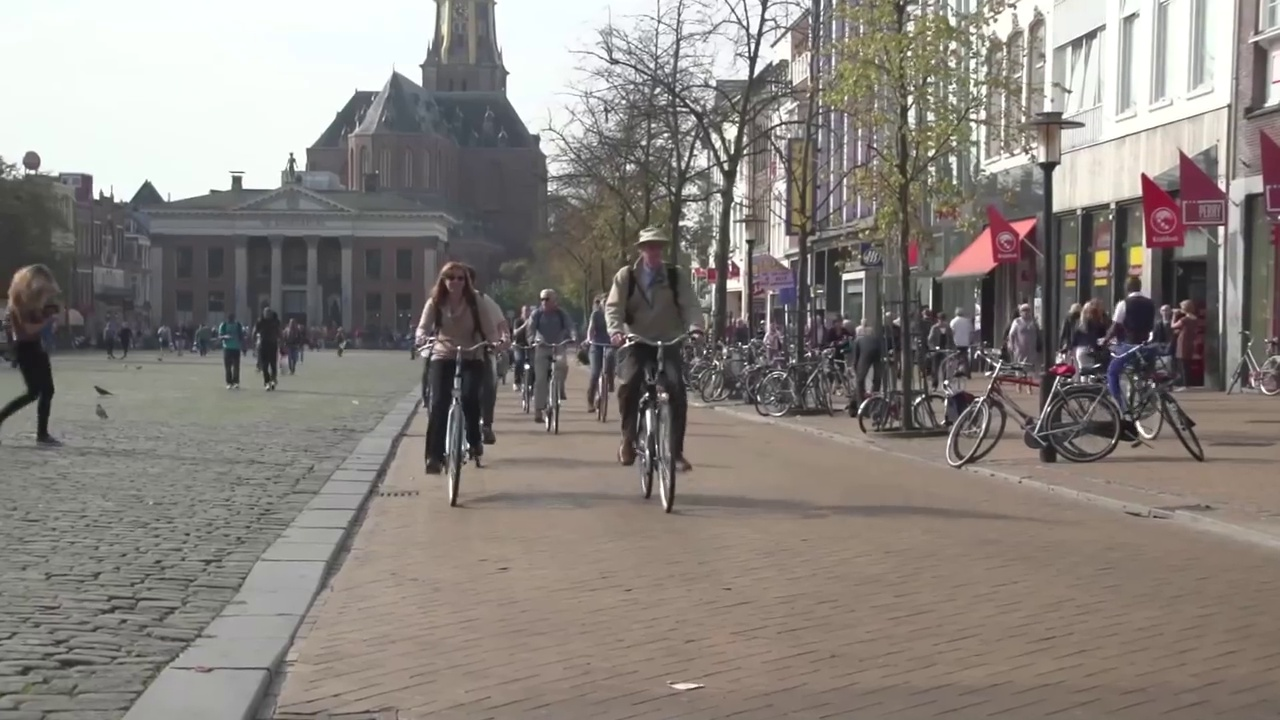cyclist_front: (605, 226, 700, 513), (411, 262, 508, 514), (528, 279, 578, 439), (585, 282, 621, 426)
